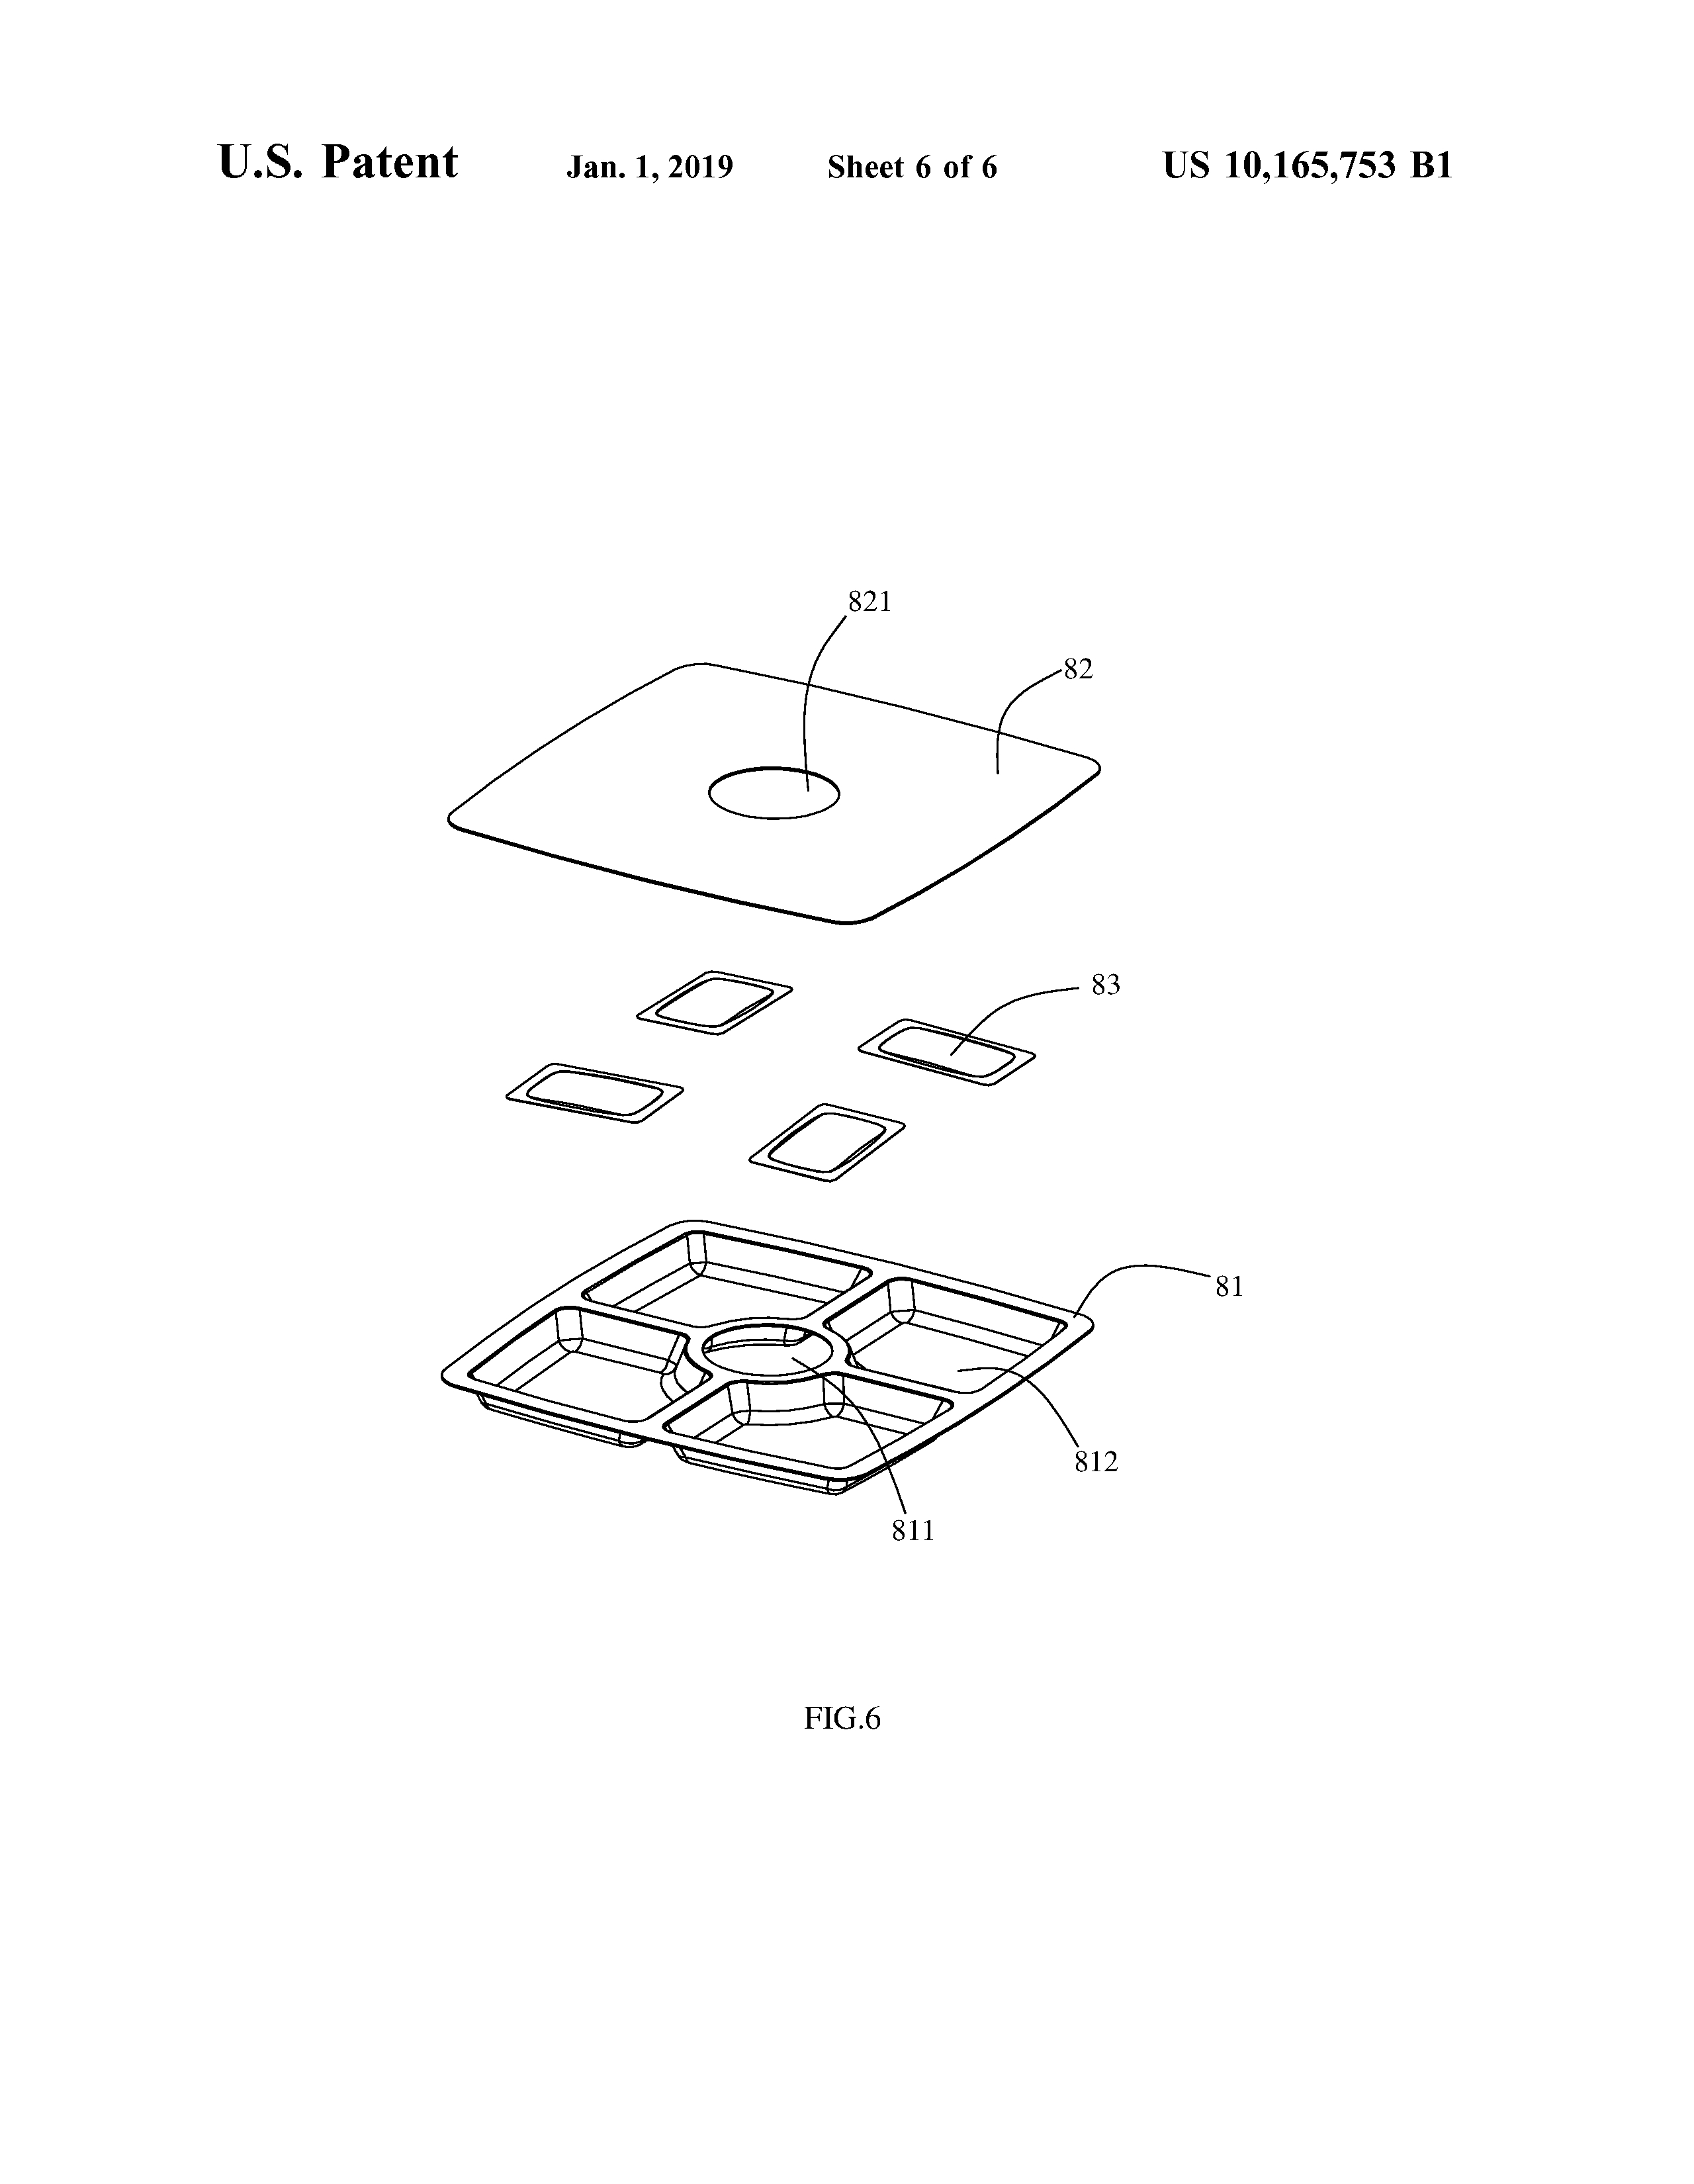patent image: (396, 482, 1273, 1814)
